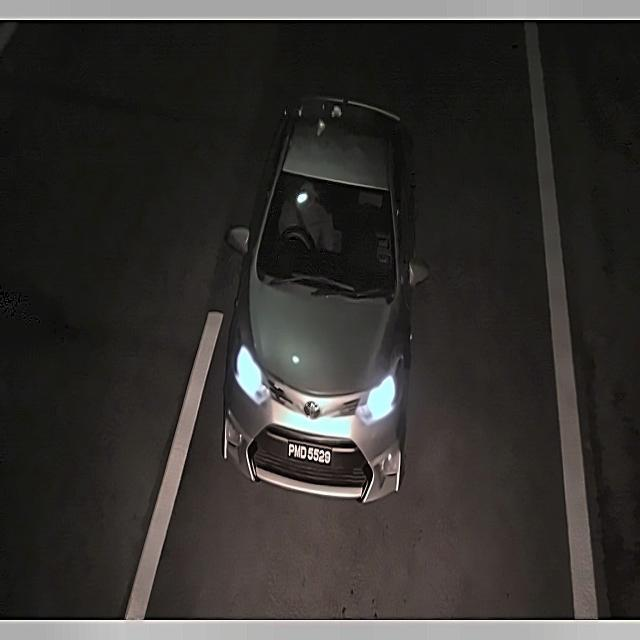car: (286, 436, 334, 474)
